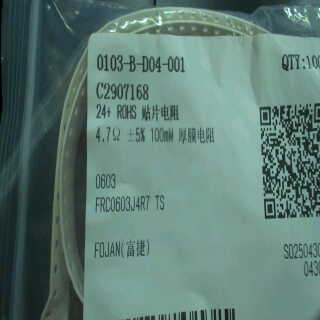4.7R: (93, 122, 123, 144)
